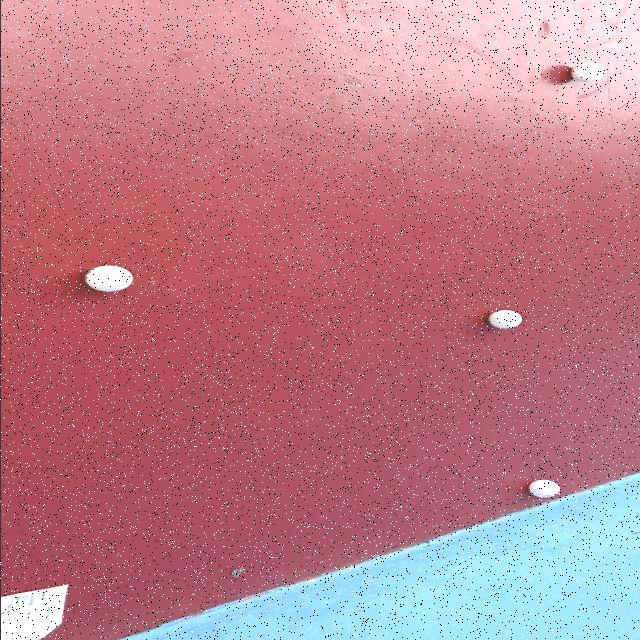ping-pong-ball: (80, 262, 138, 296), (518, 476, 562, 503), (566, 58, 610, 85), (480, 308, 526, 332)
